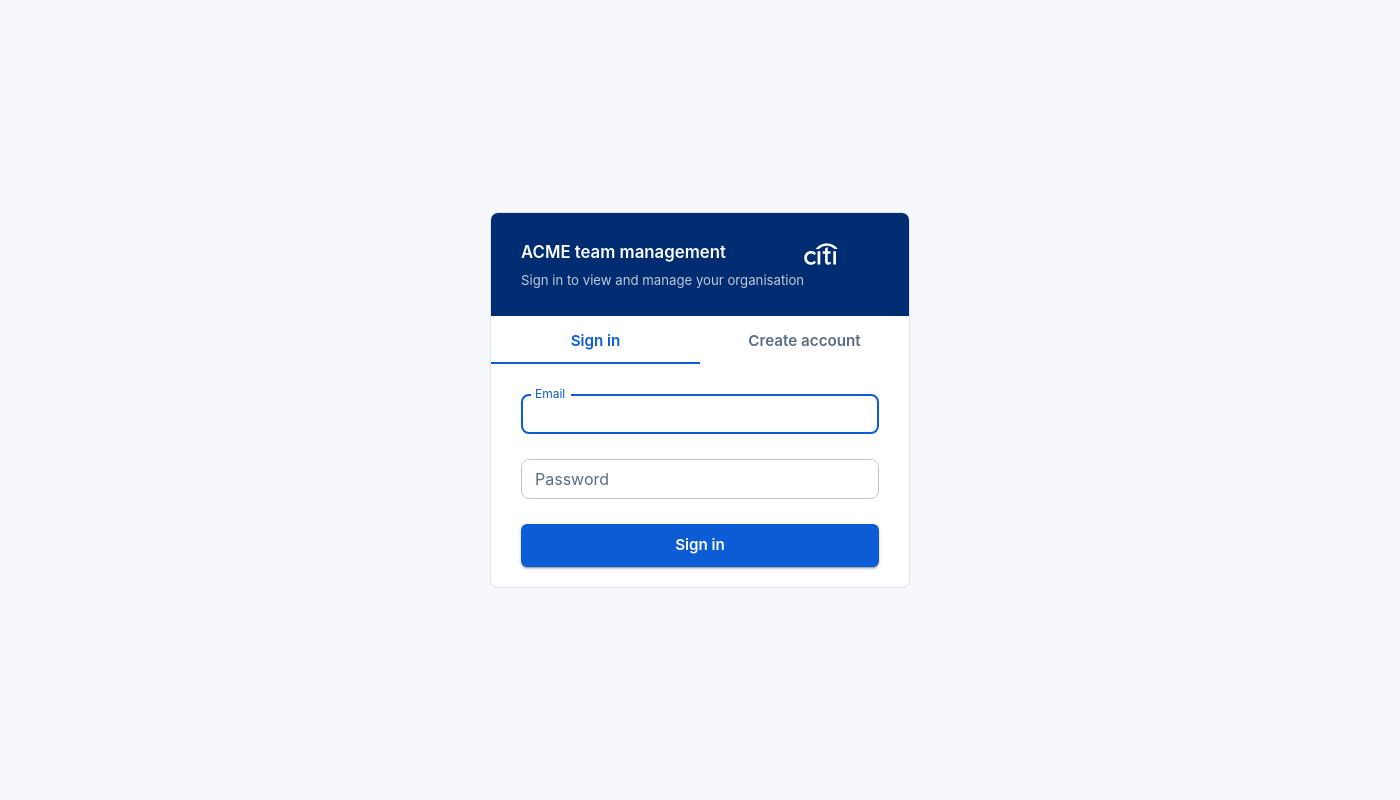
it: signing in › rejects the wrong password
Type "sasha@acme.com" into the field with id "signin-email" at (700, 415), box [521, 395, 879, 435]
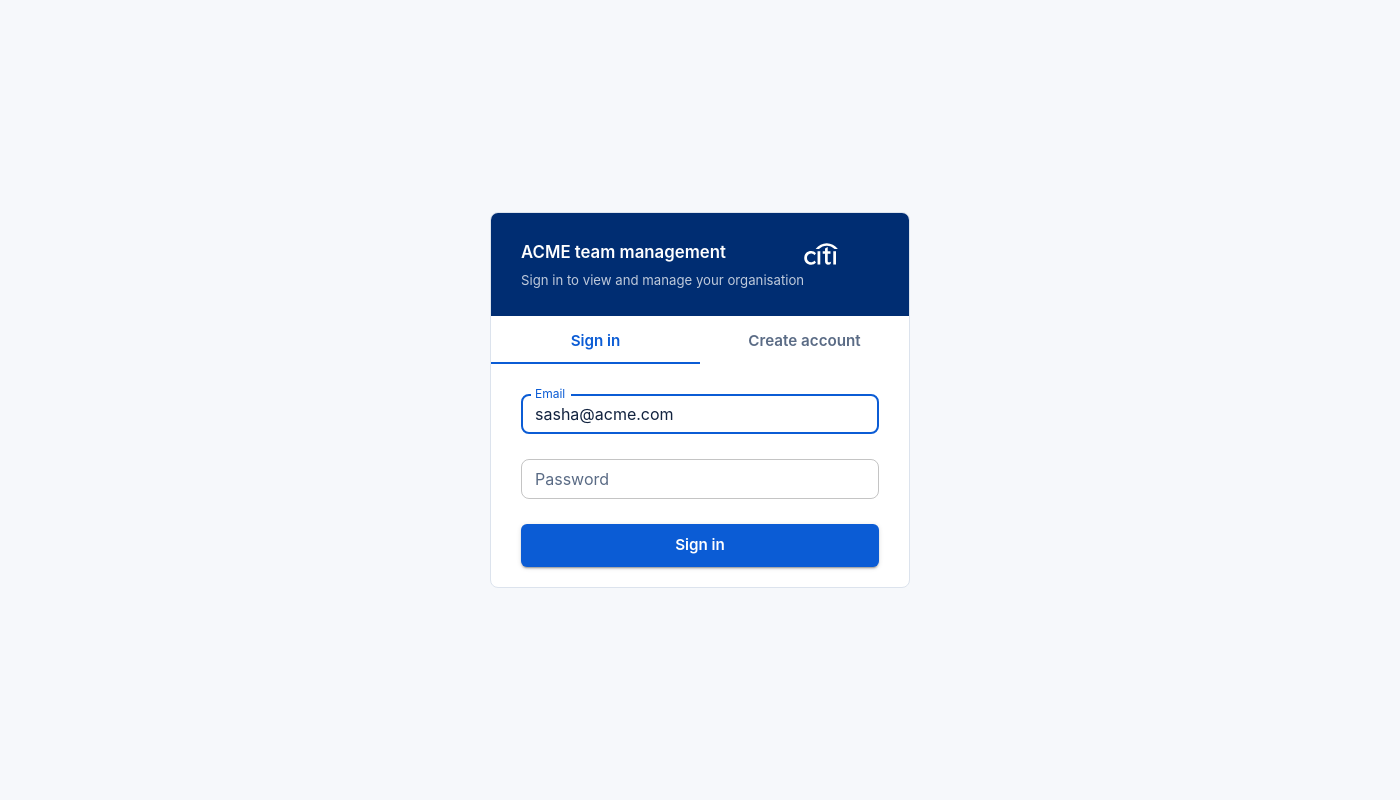
Type "definitely-not-the-password" into the password field with id "signin-password" at (700, 480), box [521, 460, 879, 500]
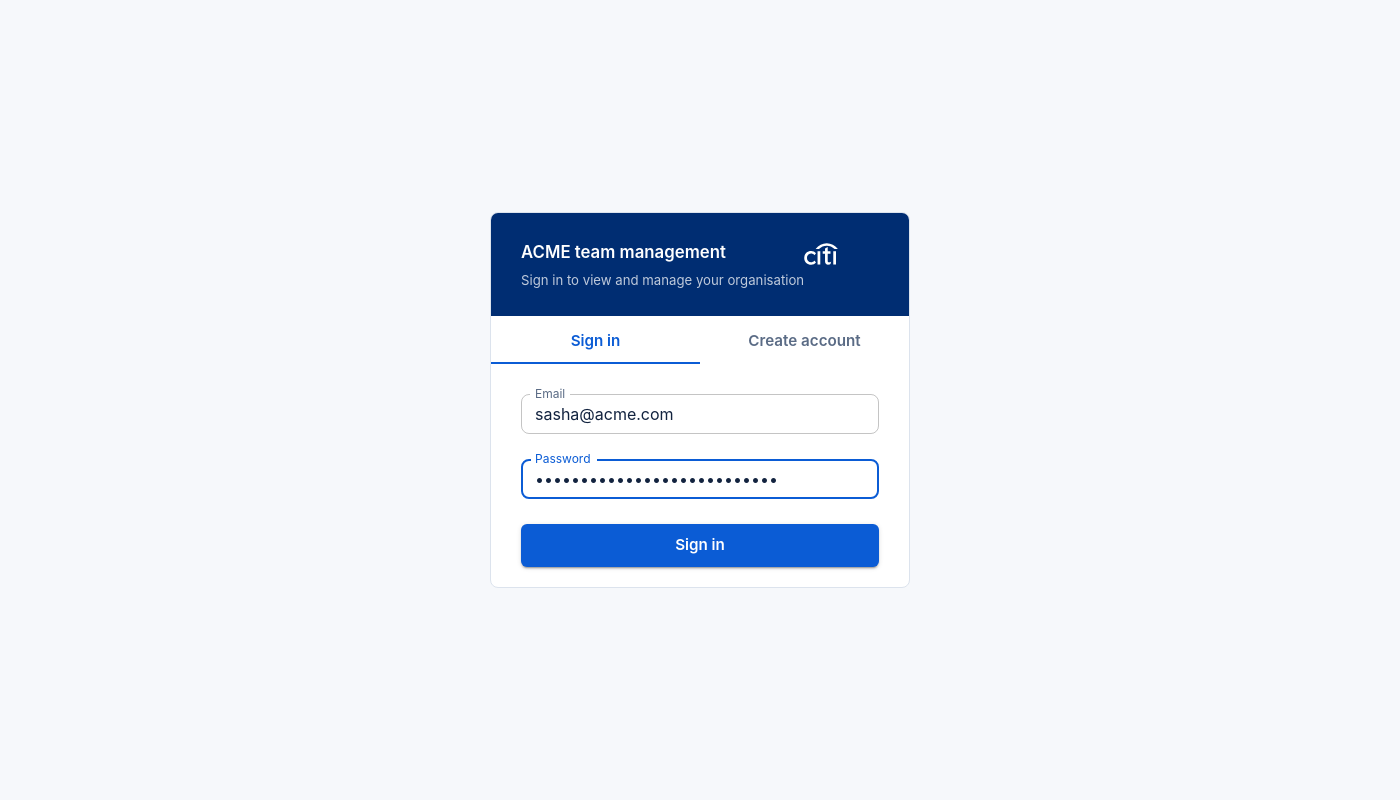
Click the button with id "submit-signin" at (700, 547), box [521, 525, 879, 568]
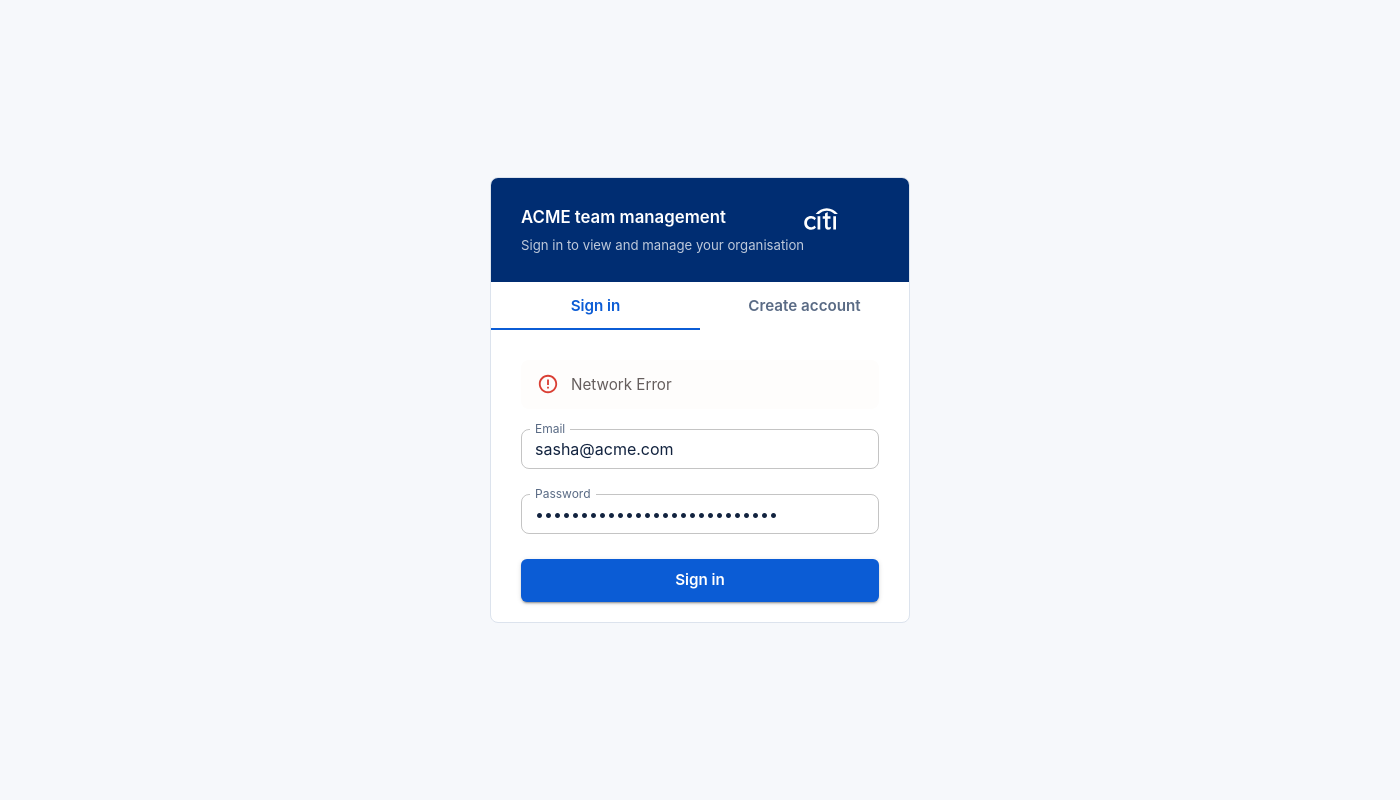
Check: the message with id "auth-error" is shown, box [521, 360, 879, 410]
